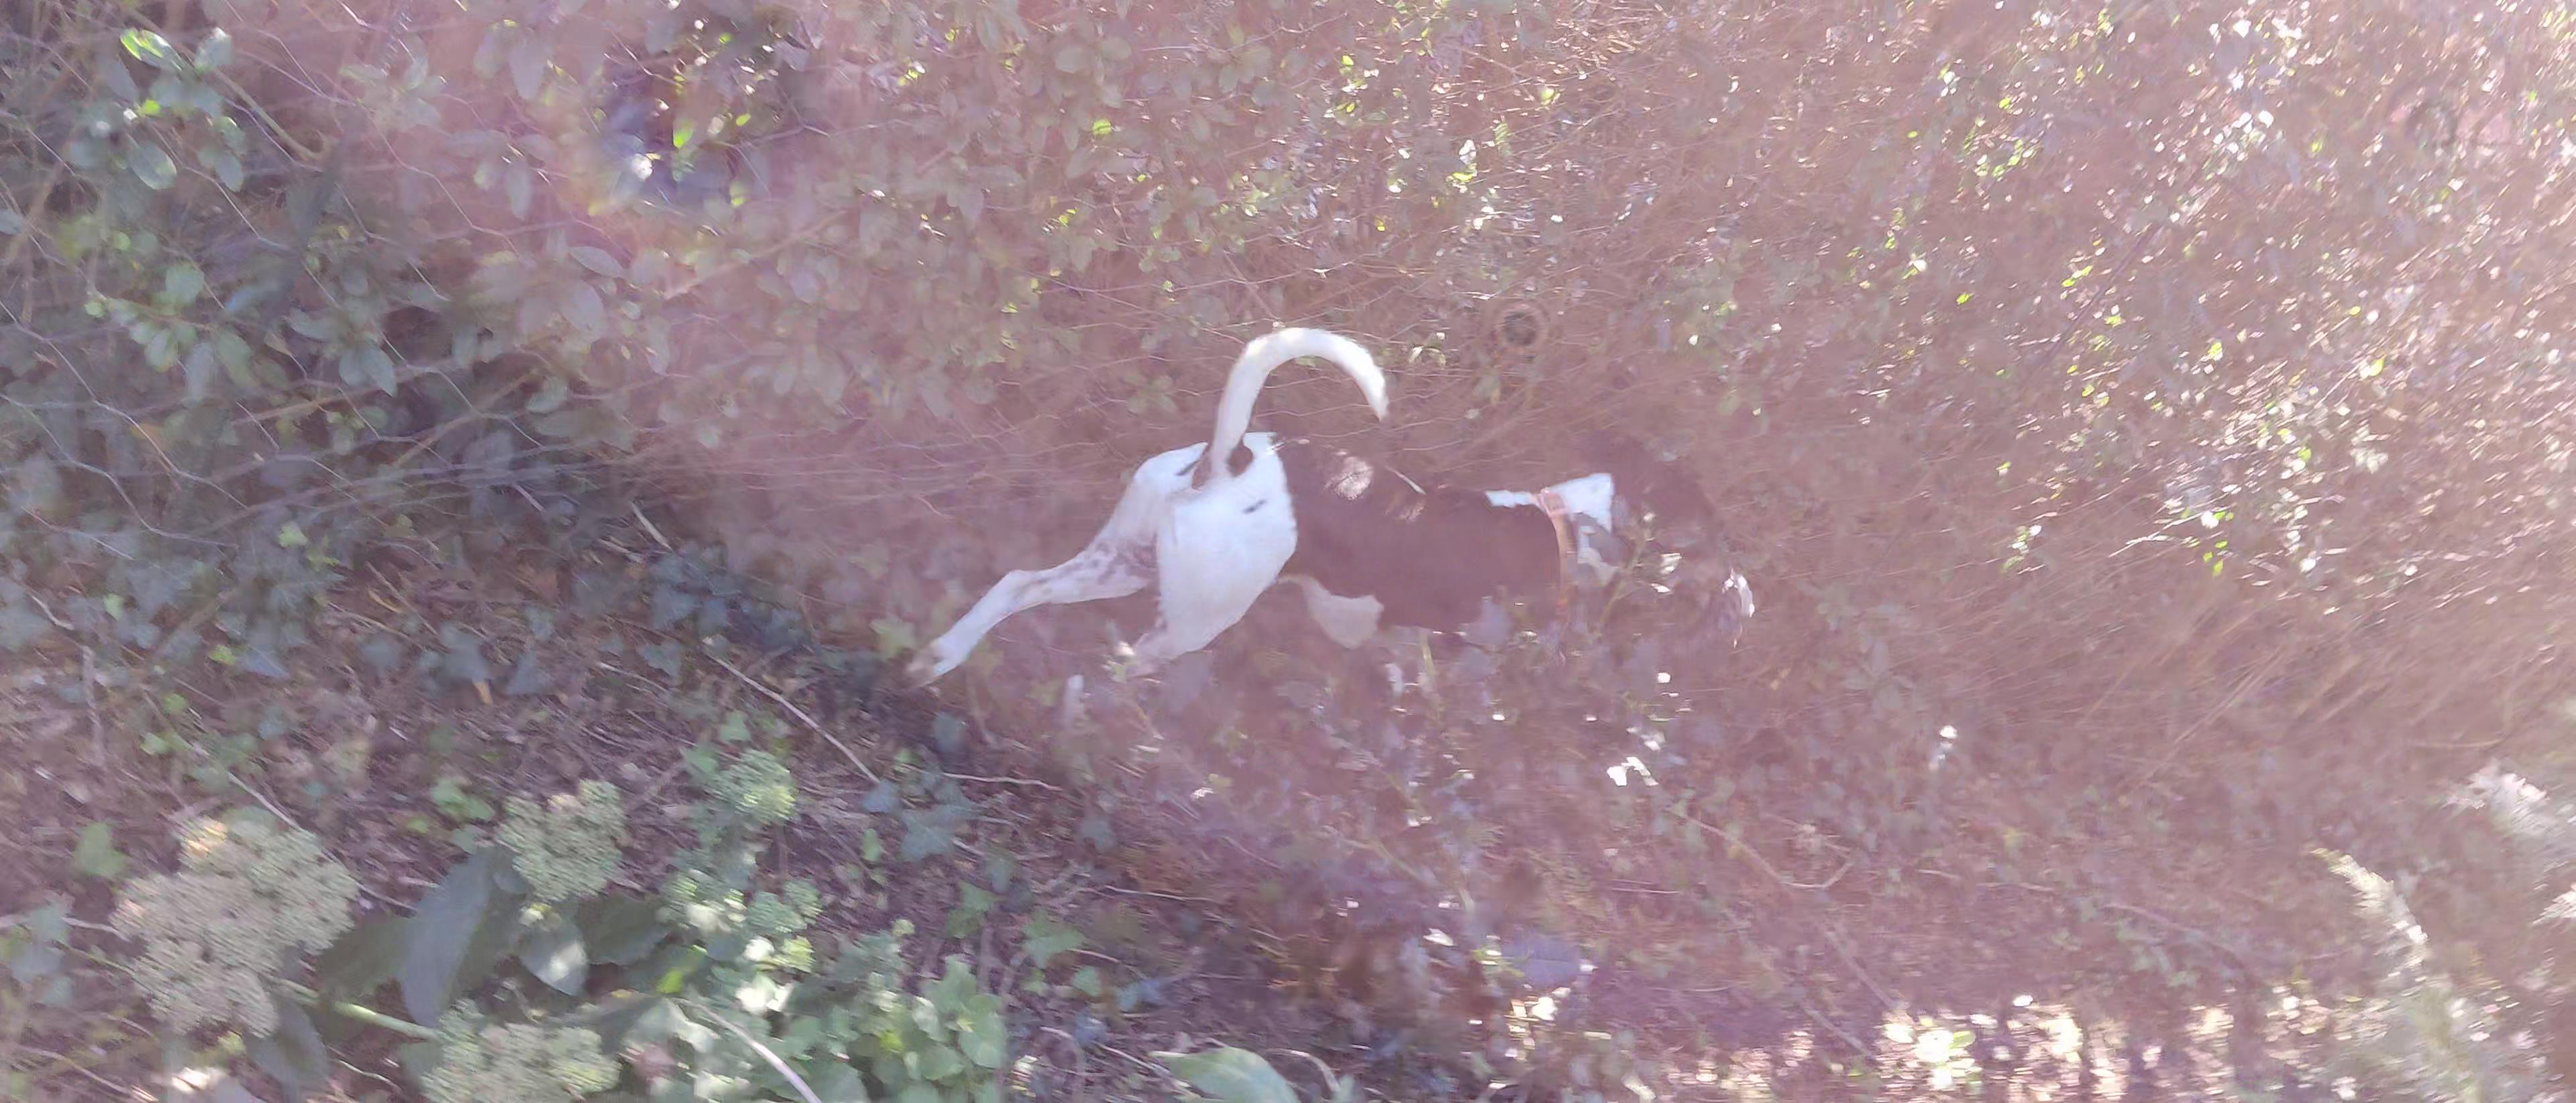Dog: (894, 322, 1723, 687)
